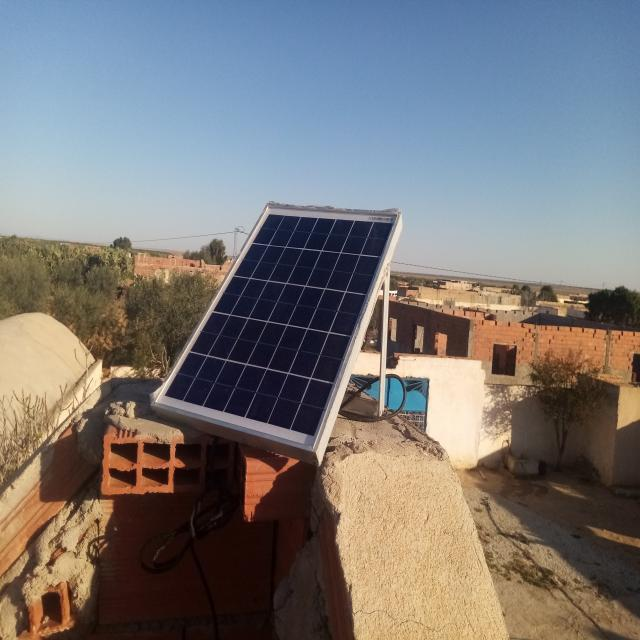no faulty: (157, 205, 398, 449)
